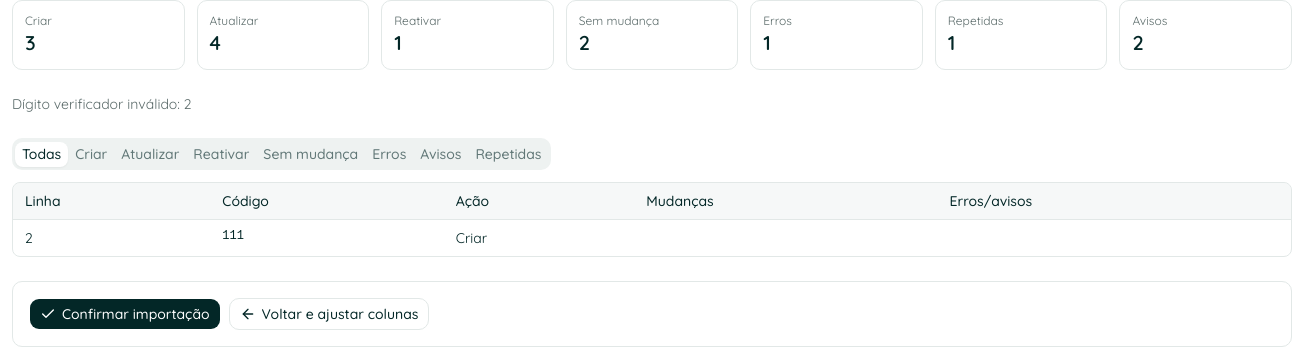
Test case: SimulationStep › filtro "Atualizar" busca action=update e mostra o diff formatado
Click the tab "Atualizar" at (150, 154), box x1=114 y1=142 x2=186 y2=166
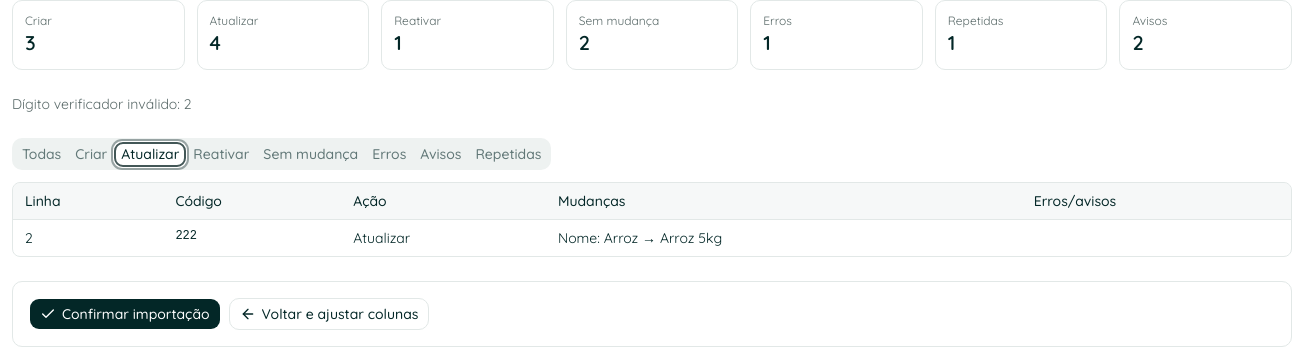
expect the text "Nome: Arroz → Arroz 5kg" is shown: met, box x1=558 y1=229 x2=722 y2=247
